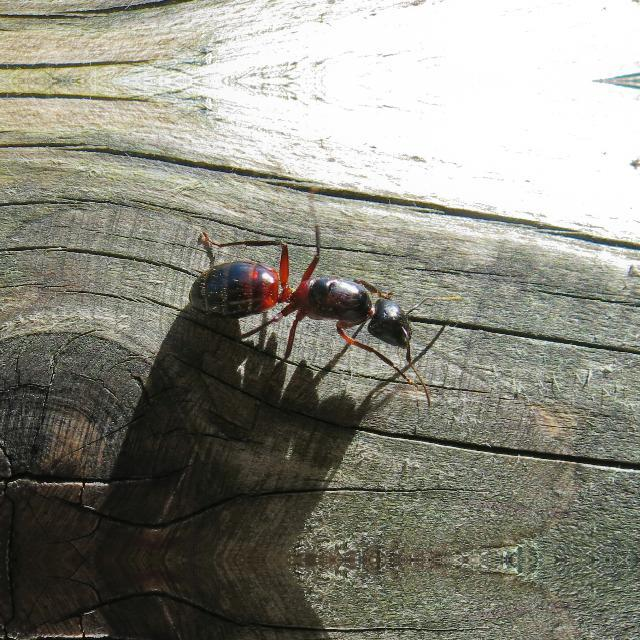Camponotus: (164, 221, 452, 367)
